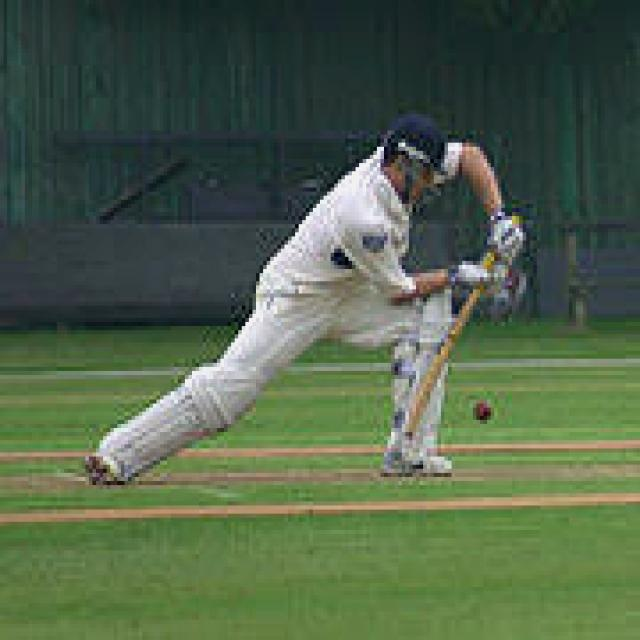toe: (398, 400, 428, 444)
